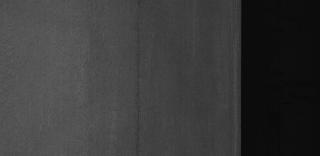water spot: (132, 19, 150, 156)
